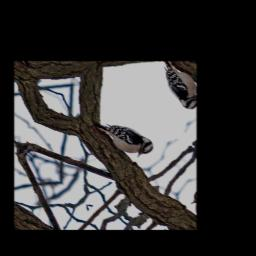Woodpecker: (87, 107, 157, 170)
